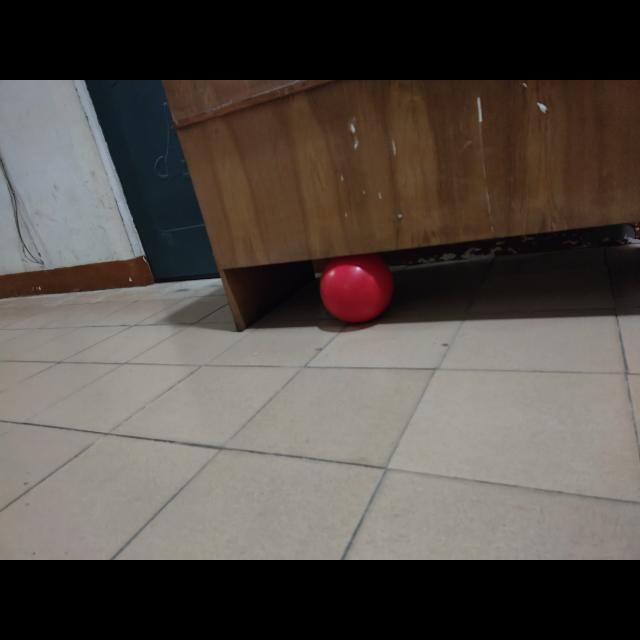R: (318, 250, 394, 328)
